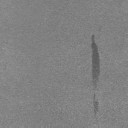red iron: (91, 34, 100, 86), (94, 102, 98, 114)
